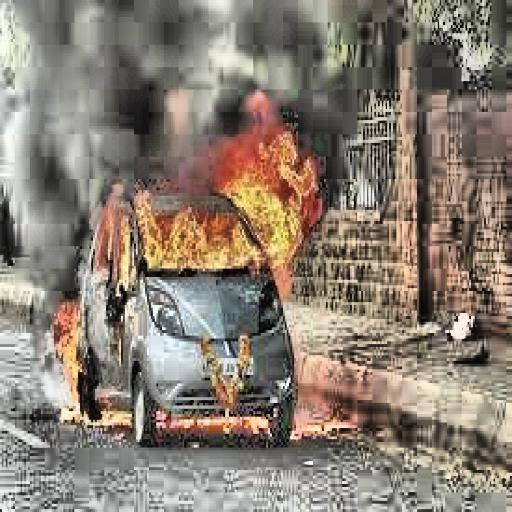fire: (58, 140, 340, 464)
